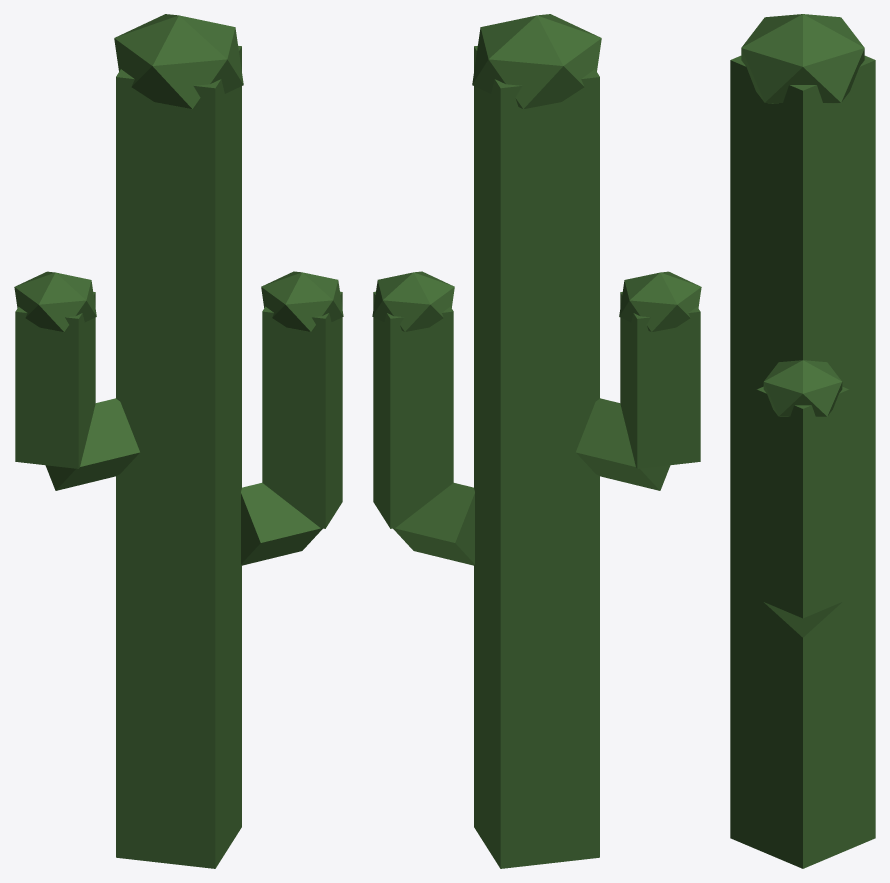
File: bg_desert_cactus_1_lod2.glb
3 renders of one model, left to right at view 1: azimuth 30°, elevation 25°; view 2: azimuth 150°, elevation 25°; view 3: azimuth 270°, elevation 25°, orthographic.
Parts seen in each view (by area): view 1: body; view 2: body; view 3: body.
Part boxes in pixels (x1,y1,x2,y2): body: (14, 14, 343, 868); body: (372, 14, 701, 868); body: (730, 14, 875, 868).
Size of the model in its own units: 1.14 by 2.75 by 0.44.
